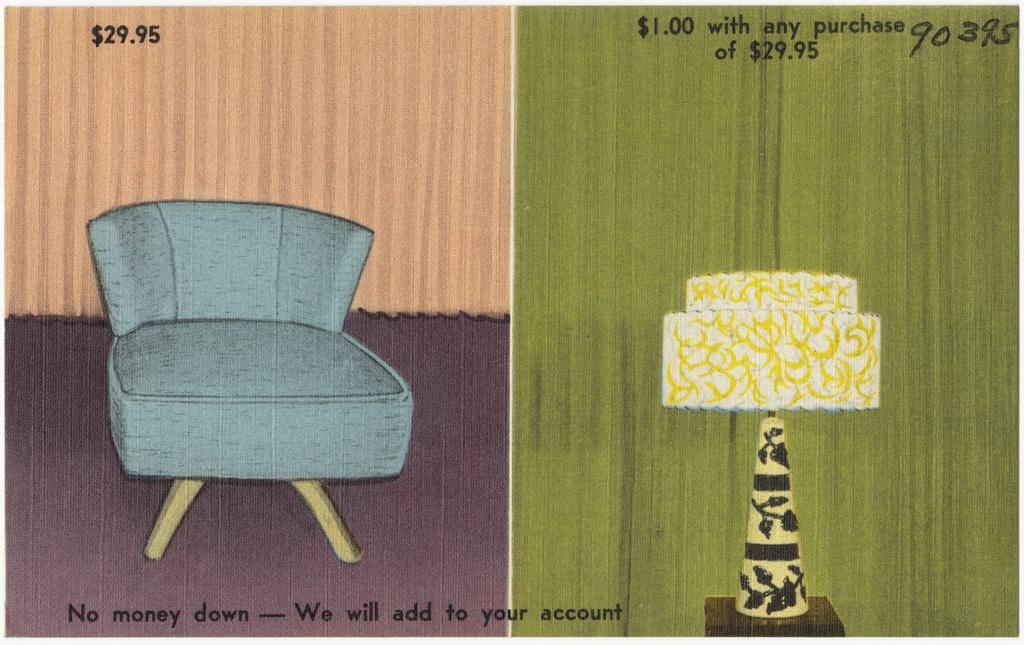Chair: (81, 195, 418, 570)
